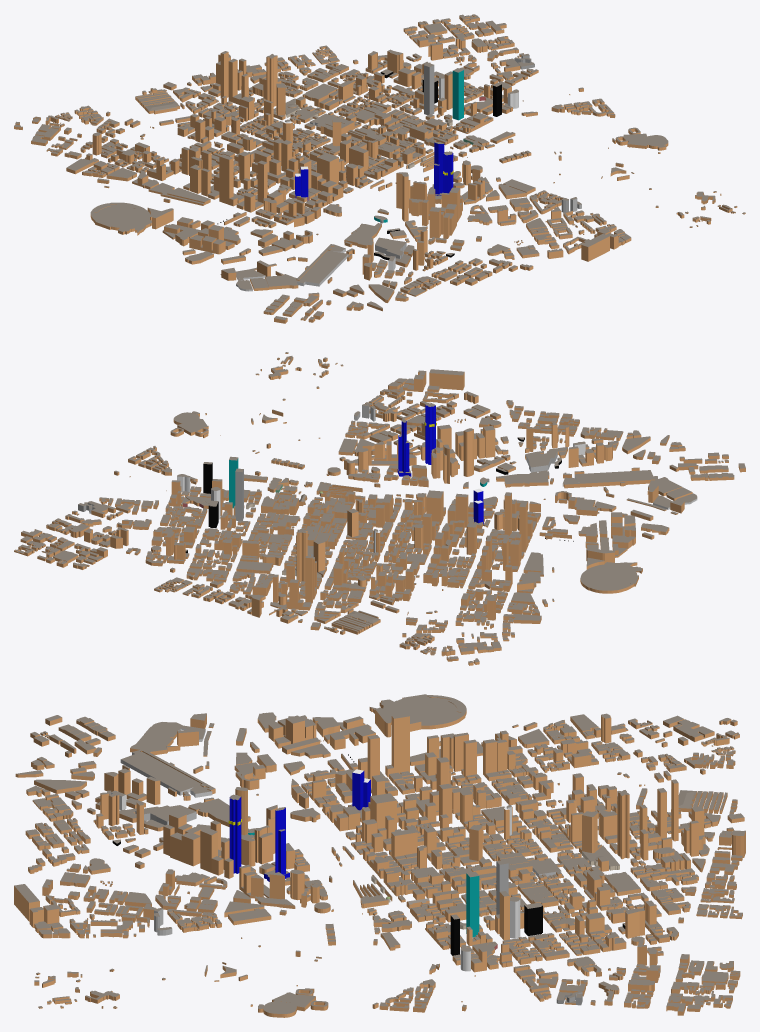
File: city.fbx
3 renders of one model, top to bottom at view 1: azimuth 30°, elevation 25°; view 2: azimuth 150°, elevation 25°; view 3: azimuth 270°, elevation 25°, orthographic. The views are drawn at different scales.
Visible parts, largest first — view 1: map_2.osm_buildings; view 2: map_2.osm_buildings; view 3: map_2.osm_buildings.
Boxes of the visible parts, x1=… form: map_2.osm_buildings: x1=14, y1=14, x2=745, y2=323; map_2.osm_buildings: x1=14, y1=352, x2=745, y2=665; map_2.osm_buildings: x1=14, y1=694, x2=745, y2=1017.
Bounding box in the file's own units: 8226 × 886 × 7952.
